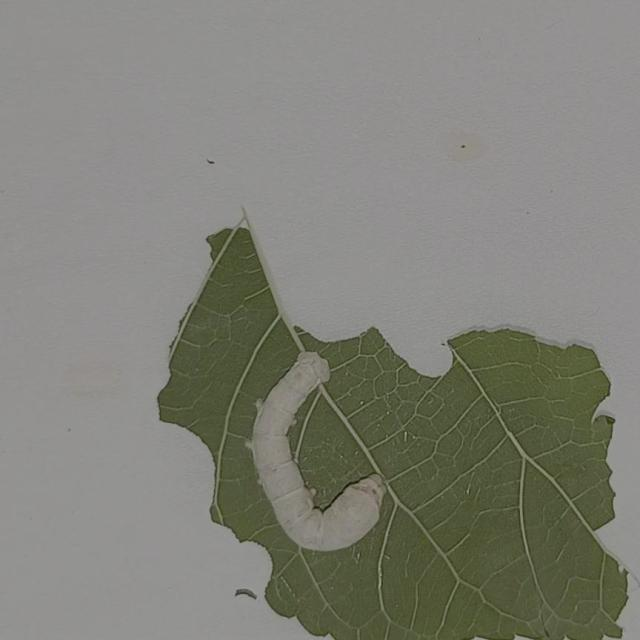Healthy: (237, 331, 424, 574)
